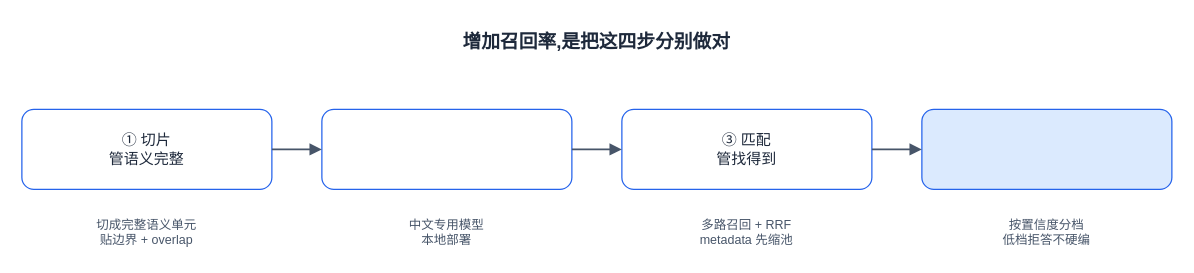
Image size: 1194x273. Some labels were removed from this diagram. The shapes that lost their labels are listed below. From the top down, each one's centre as x and y in pixels, then its label:
At (x=446, y=148): "② 向量化 管语义表达".
At (x=1046, y=148): "④ 分级 管用得对".
